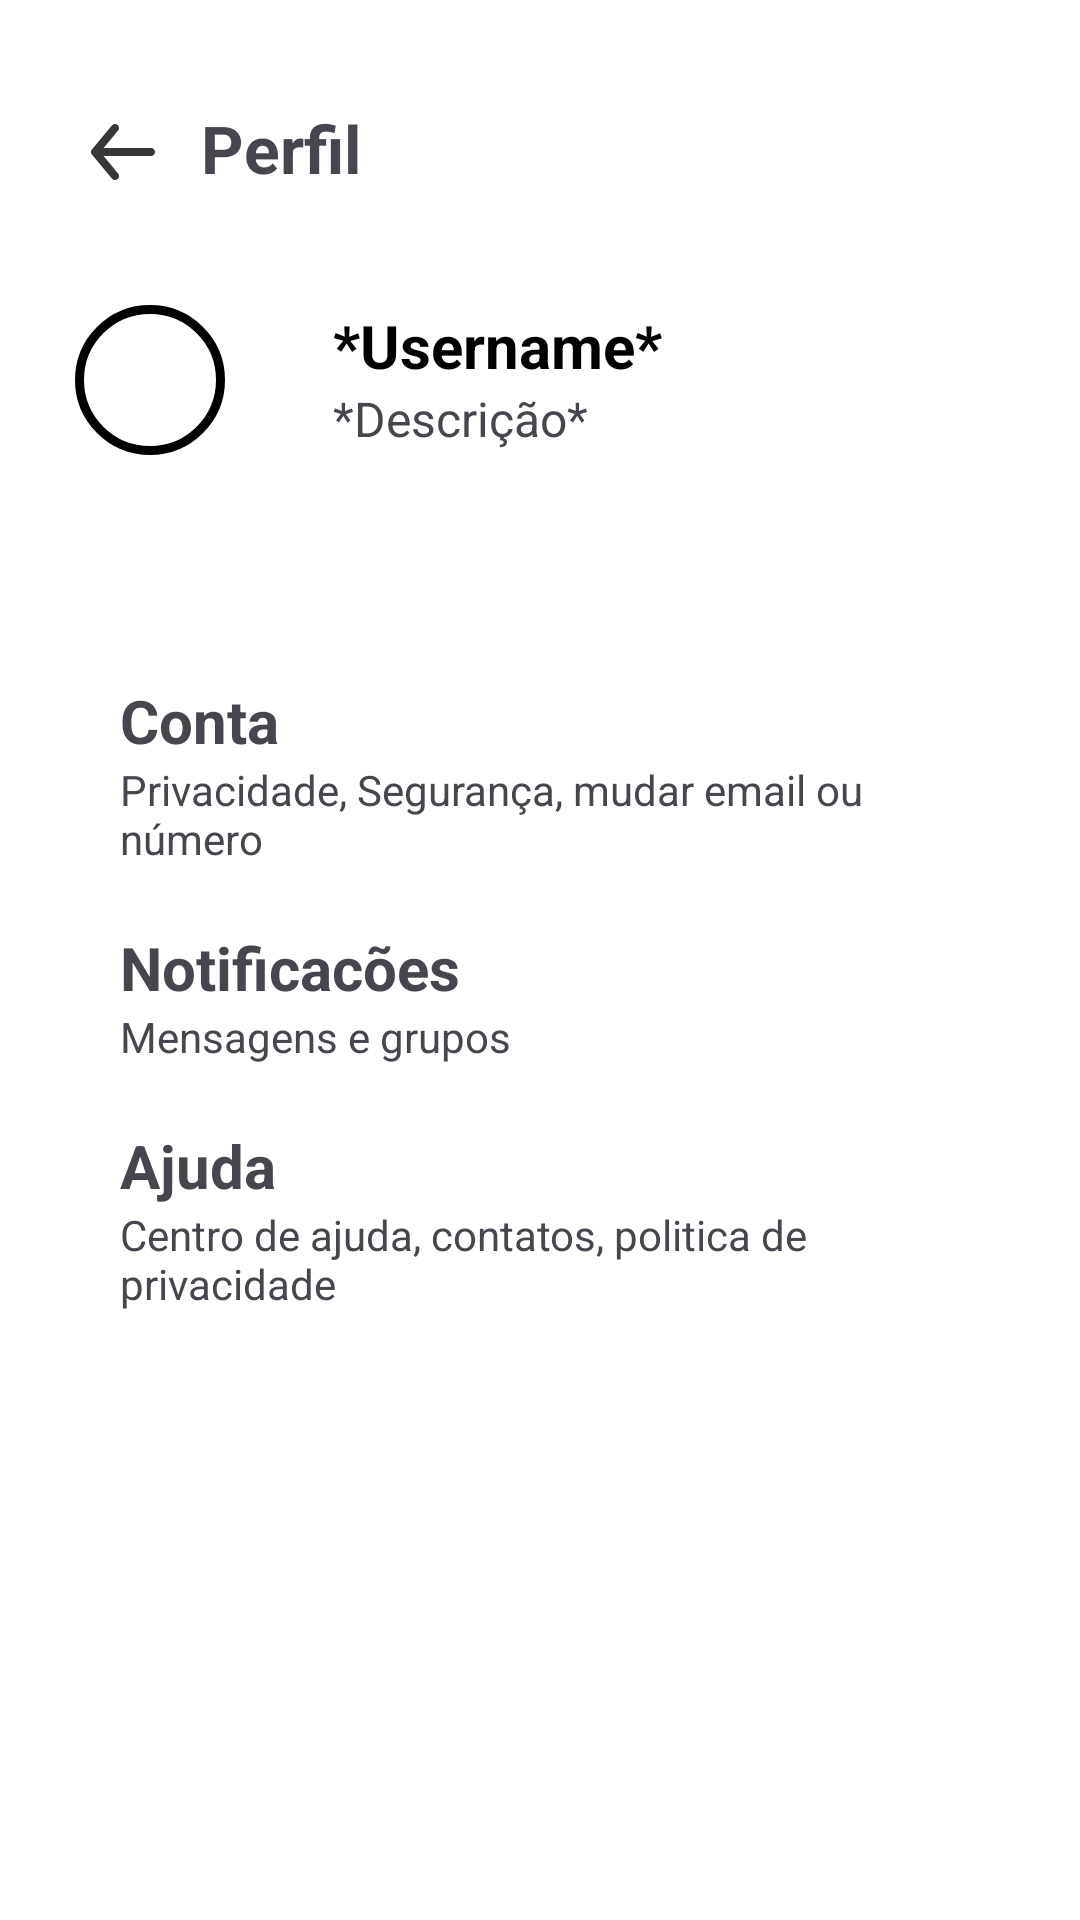

Screen size 1080 x 1920. Icon name, then its box in pixels as bbox(x1, y1, x2, y2):
go back arrow: bbox(91, 124, 155, 180)
